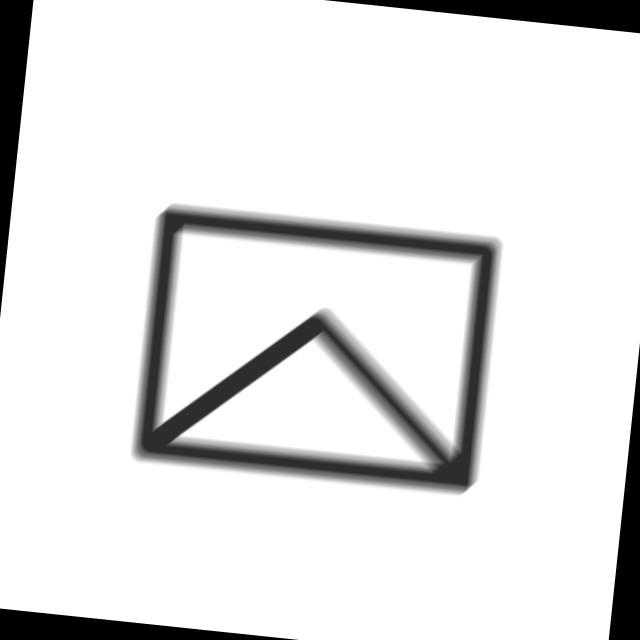letter: (125, 195, 511, 502)
